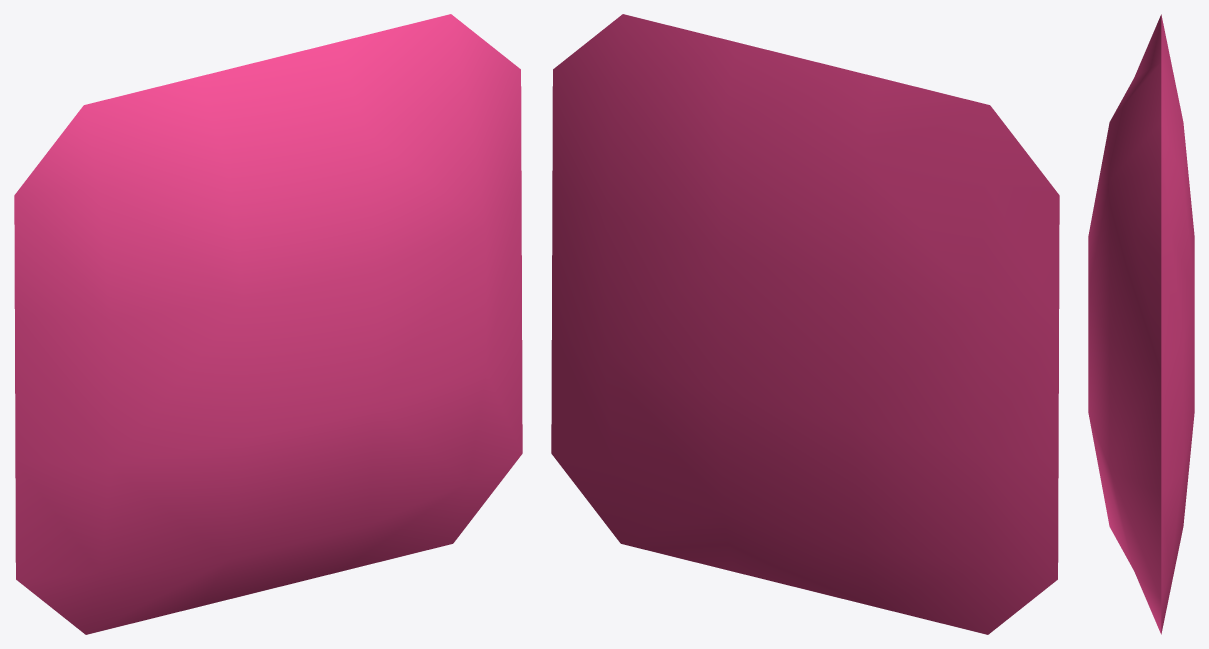
The model's file is PinkCushion.glb.
The picture shows the model from 3 angles, left to right: view 1: azimuth 30°, elevation 25°; view 2: azimuth 150°, elevation 25°; view 3: azimuth 270°, elevation 25°; orthographic projection. The views are drawn at different scales.
Visible parts, largest first — view 1: cushion; view 2: cushion; view 3: cushion.
Part boxes in pixels (x1,y1,x2,y2): cushion: [14, 14, 522, 634]; cushion: [551, 14, 1059, 634]; cushion: [1088, 14, 1194, 634].
Size of the model in its own units: 0.6322 by 0.6322 by 0.1306.
1 material, 1 textured.
